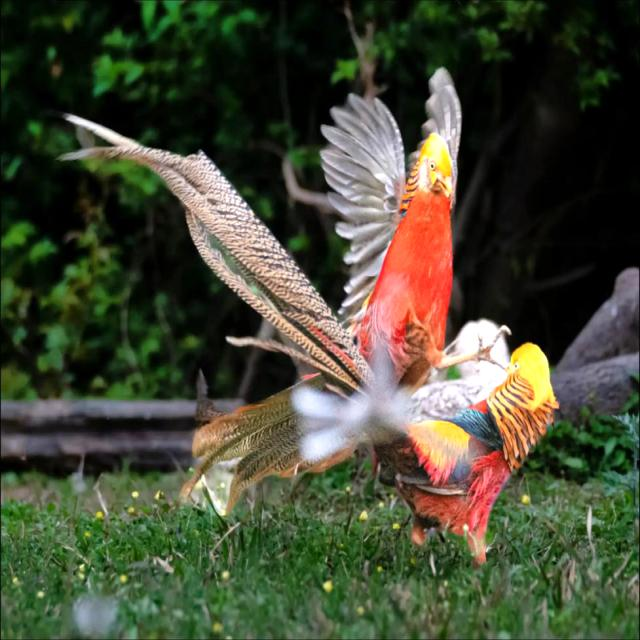Chrysolophus pictus feather: (58, 114, 371, 394), (181, 391, 302, 516)
